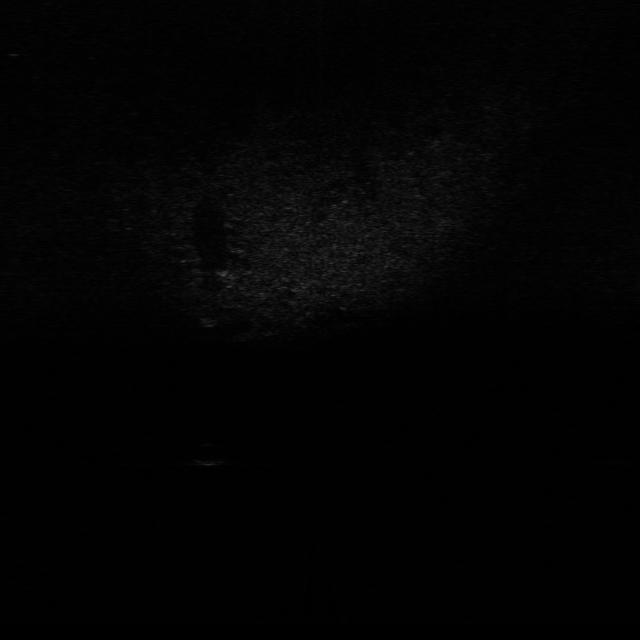ball: (193, 440, 229, 466)
